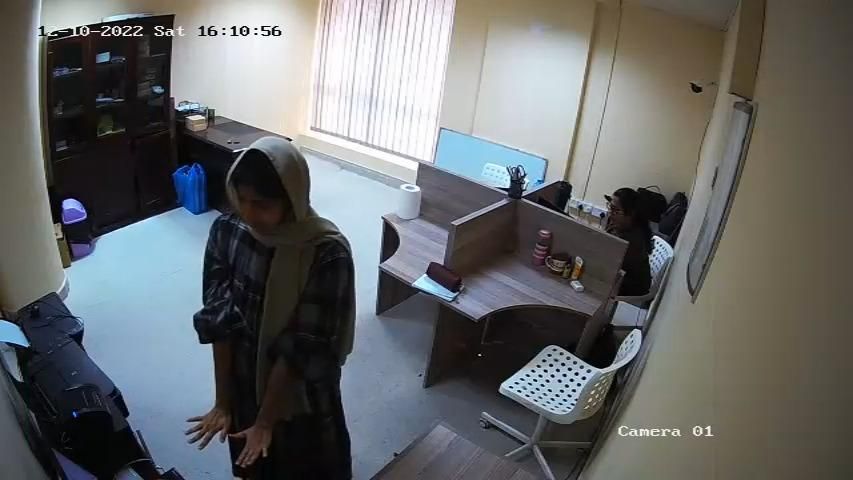no_gloves: (183, 403, 231, 451), (227, 420, 271, 472)
